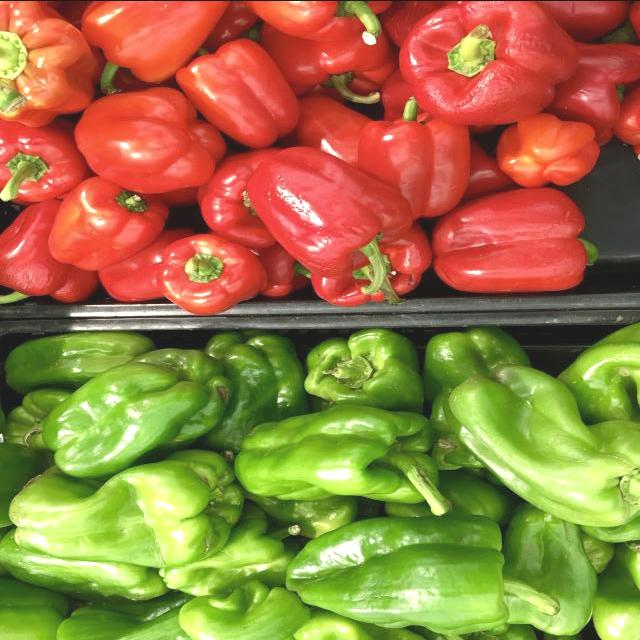bell_pepper: (288, 512, 562, 628), (441, 367, 640, 517), (237, 147, 420, 293), (12, 448, 234, 558), (232, 409, 460, 513), (48, 346, 232, 472), (399, 1, 577, 129), (434, 189, 599, 295), (73, 88, 218, 194), (46, 176, 164, 272), (152, 236, 263, 312)
